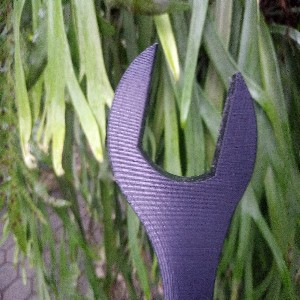spanner: (106, 40, 259, 300)
